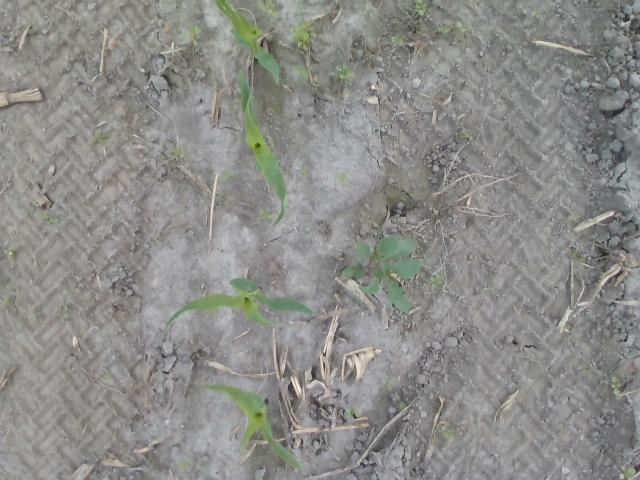Maize: (163, 277, 316, 340), (198, 382, 304, 471), (234, 69, 288, 229), (212, 0, 280, 85)
Weeds: (340, 232, 430, 314), (286, 22, 316, 47), (327, 65, 356, 87), (178, 454, 206, 474), (434, 22, 468, 38), (255, 5, 280, 22), (182, 26, 202, 47), (292, 65, 313, 81), (38, 212, 62, 226), (429, 273, 445, 294), (89, 130, 111, 144), (618, 463, 636, 480), (440, 423, 456, 442), (380, 374, 396, 392), (342, 408, 362, 422), (610, 376, 624, 396), (413, 0, 429, 17), (256, 207, 275, 221), (218, 172, 240, 184), (101, 368, 116, 384), (390, 34, 407, 48), (570, 251, 588, 264), (168, 145, 182, 160), (336, 174, 352, 186), (0, 294, 10, 311), (298, 166, 310, 180), (481, 284, 497, 294), (6, 245, 16, 260), (530, 10, 542, 20), (462, 130, 472, 140), (27, 27, 38, 36), (398, 401, 407, 410), (8, 38, 16, 44)
